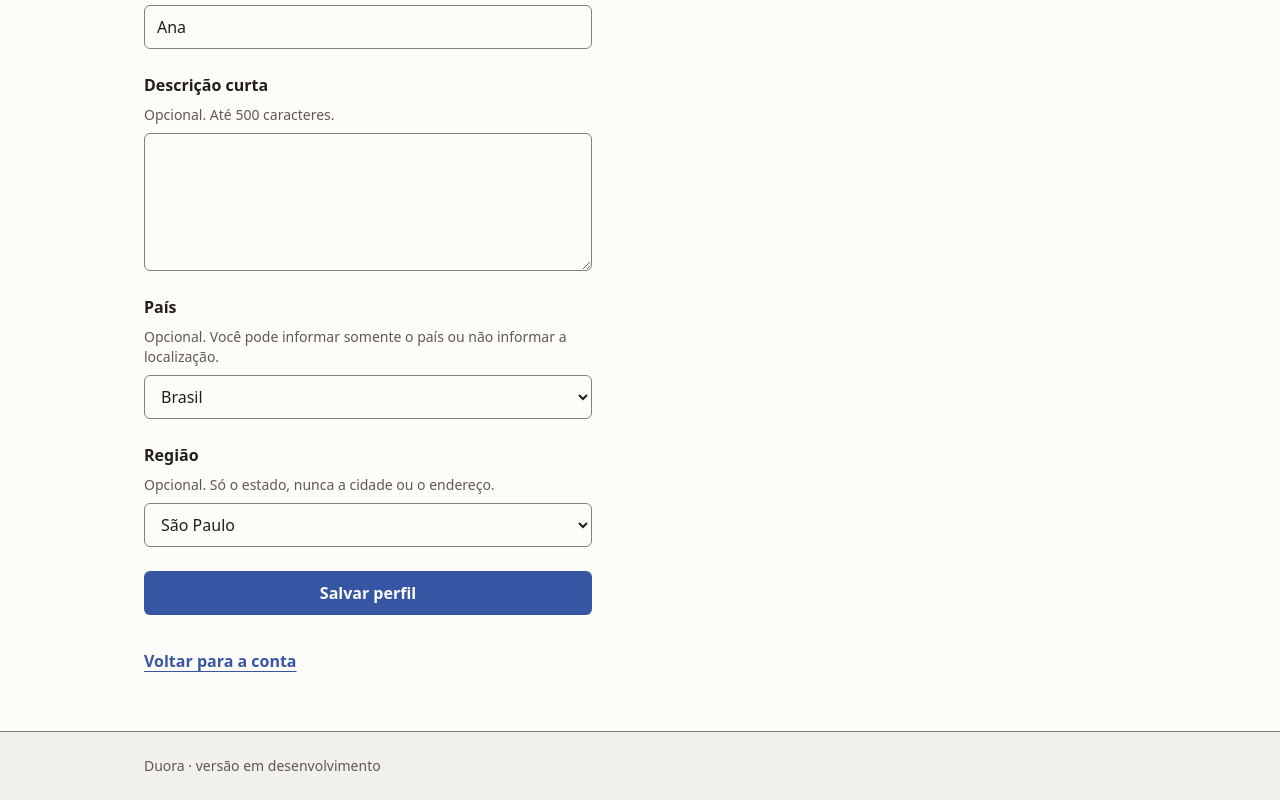
perfil: região › "Não informar" manda null, que limpa a região no servidor
This screenshot has width=1280, height=800.
(page scrolled)
Step 1. Select "Não informar" in the dropdown labelled "Região" → (368, 525), box [144,503,592,547]
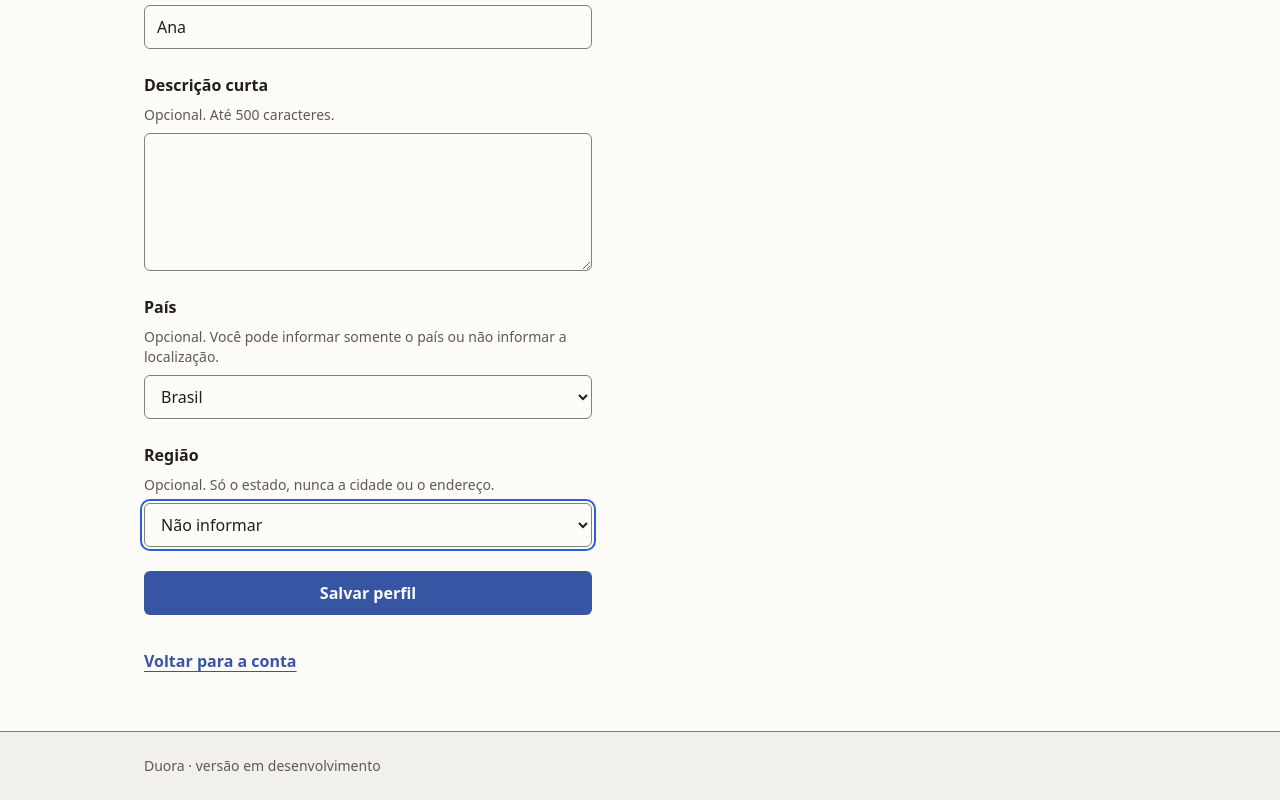
Step 2. Click the button "Salvar perfil" → click(368, 593), box [144,571,592,615]
(page scrolled)
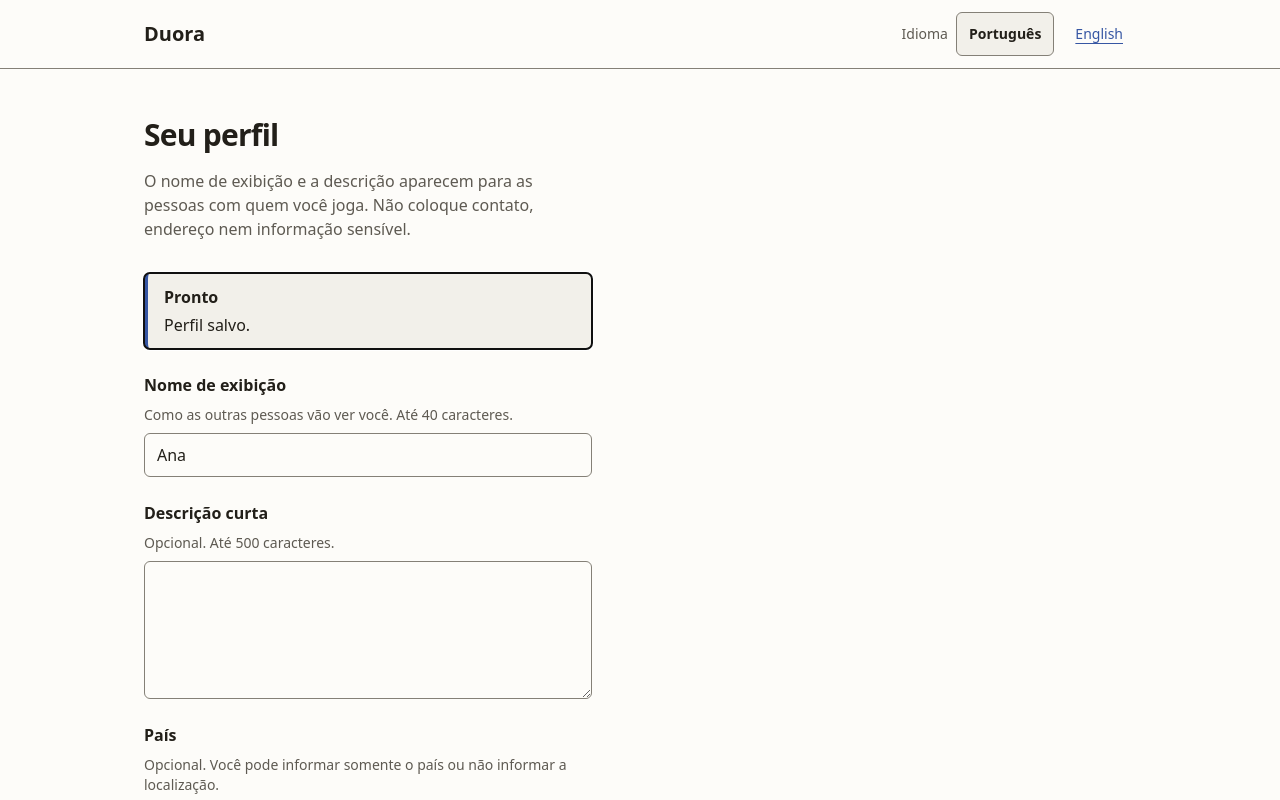
Expected: the text "Perfil salvo." is shown, [164,314,250,336]
